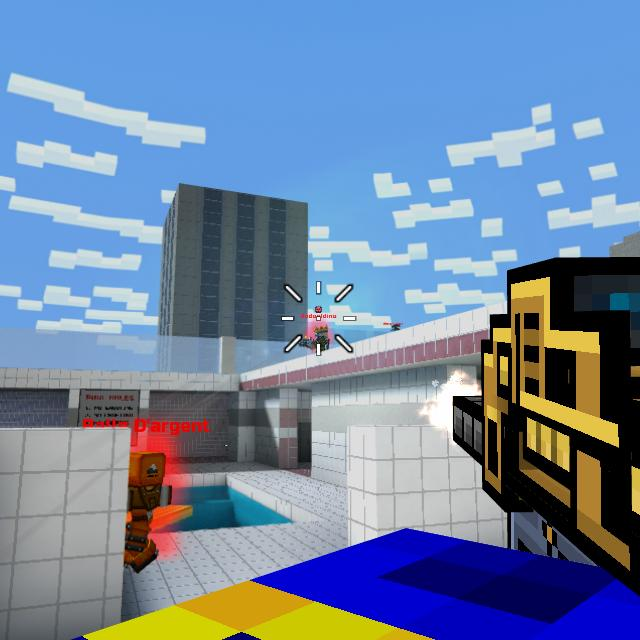Enemy: (124, 452, 172, 574), (307, 324, 330, 356)
